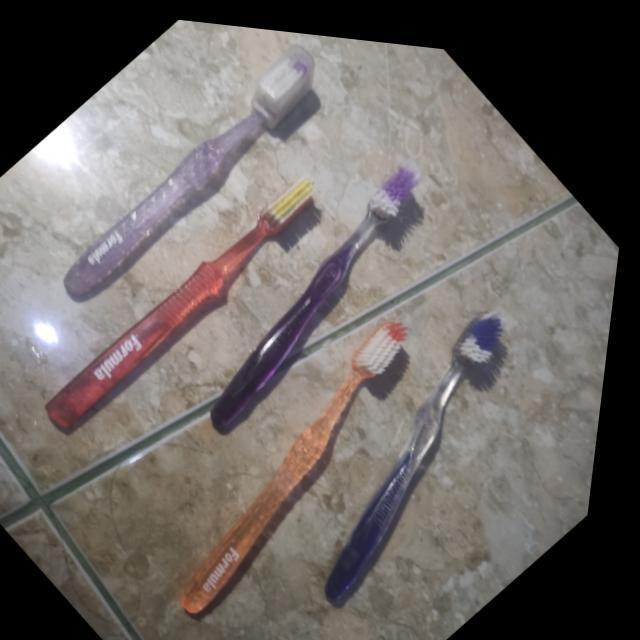toothbrush: (103, 260, 504, 640), (229, 251, 618, 640), (152, 123, 488, 473), (26, 5, 362, 348), (29, 130, 357, 477)
